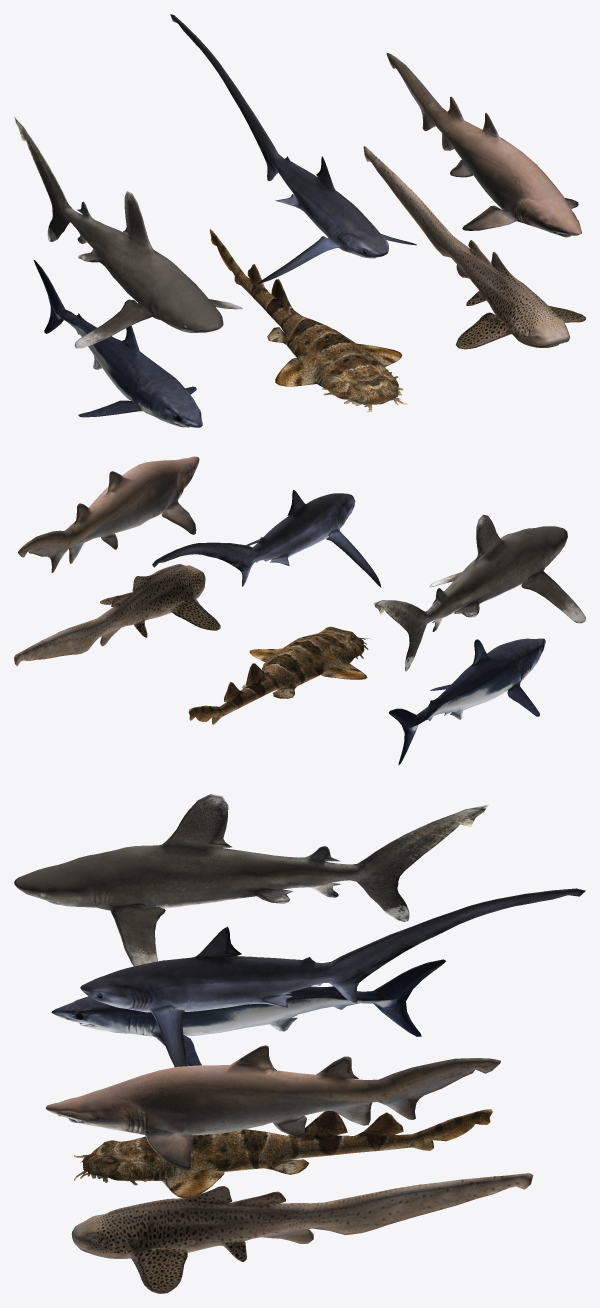
The model's file is 6sharks.obj.
3 views of the same model, one above another, from view 1: azimuth 30°, elevation 25°; view 2: azimuth 150°, elevation 25°; view 3: azimuth 270°, elevation 25° (orthographic). The views are drawn at different scales.
Parts seen in each view (by area): view 1: obj3, obj6, obj1, obj5, obj4, obj2; view 2: obj3, obj6, obj5, obj1, obj4, obj2; view 3: obj3, obj6, obj5, obj4, obj1, obj2.
Boxes of the visible parts, x1,y1,x2,y2 form: obj3: [14, 116, 242, 348]; obj6: [386, 53, 581, 237]; obj1: [210, 229, 407, 412]; obj5: [363, 146, 585, 349]; obj4: [170, 14, 416, 283]; obj2: [33, 260, 202, 427]; obj3: [373, 514, 585, 671]; obj6: [18, 456, 199, 572]; obj5: [14, 564, 220, 666]; obj1: [188, 626, 371, 724]; obj4: [152, 490, 381, 587]; obj2: [389, 638, 545, 765]; obj3: [14, 794, 488, 966]; obj6: [45, 1045, 500, 1170]; obj5: [71, 1173, 533, 1293]; obj4: [80, 888, 585, 1067]; obj1: [74, 1109, 492, 1197]; obj2: [51, 959, 445, 1065].
Bounding box in the file's own units: 78.49 × 34.92 × 63.72.
6 materials, 6 textured.
